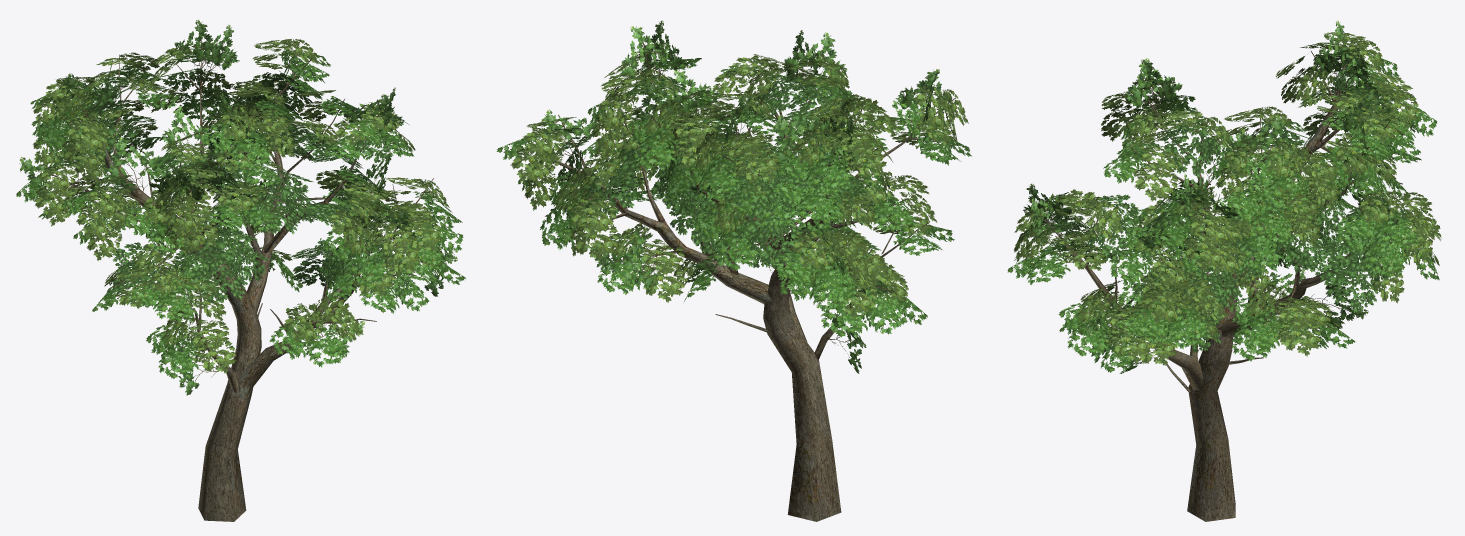
File: tree_04.dae
3 views of the same model, side by side, from view 1: azimuth 30°, elevation 25°; view 2: azimuth 150°, elevation 25°; view 3: azimuth 270°, elevation 25° (orthographic). The views are drawn at different scales.
Visible parts, largest first — view 1: polySurface3059, polySurface3058; view 2: polySurface3059, polySurface3058; view 3: polySurface3059, polySurface3058.
Boxes of the visible parts, <box> form: polySurface3059: <box>16,19,465,395</box>; polySurface3058: <box>51,38,433,521</box>; polySurface3059: <box>496,20,971,373</box>; polySurface3058: <box>535,41,955,521</box>; polySurface3059: <box>1007,21,1441,373</box>; polySurface3058: <box>1045,44,1412,521</box>.
Bounding box in the file's own units: 17.99 × 21.06 × 18.66.
Materials: 2 (2 with a texture image).
